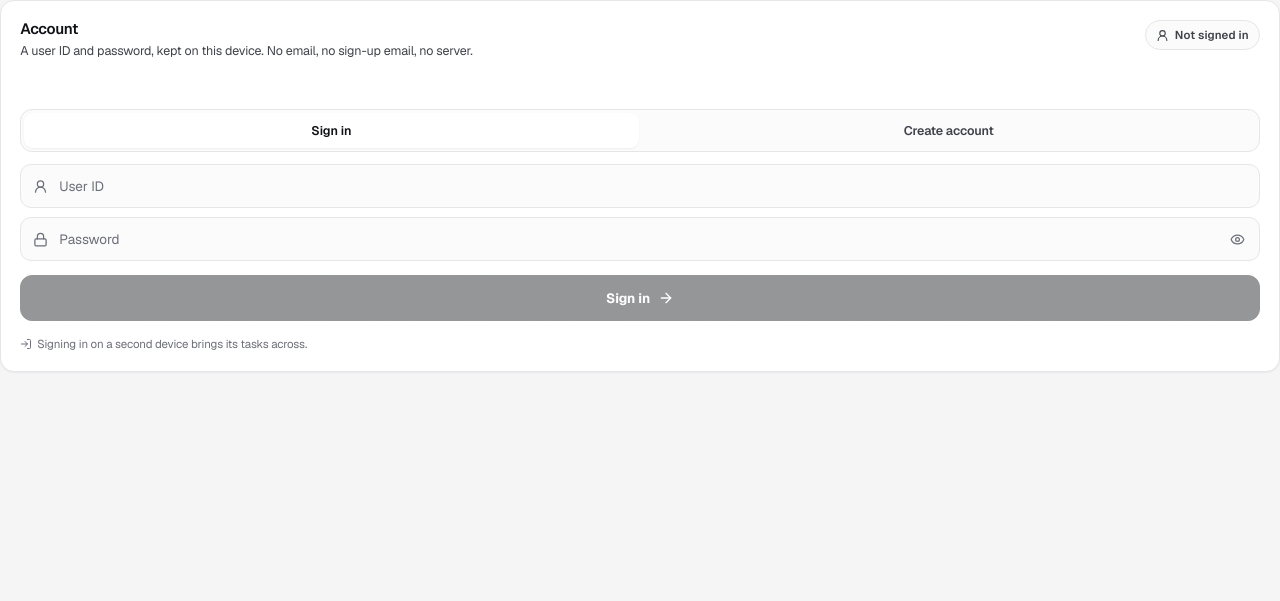
Test: AccountPanel › starts on sign in, and swaps to a create form with a confirm field
Expected: the field labelled "User ID" is shown, [20,164,1260,208]
Click the tab "Create account" at [949, 130], box [642,113,1256,148]
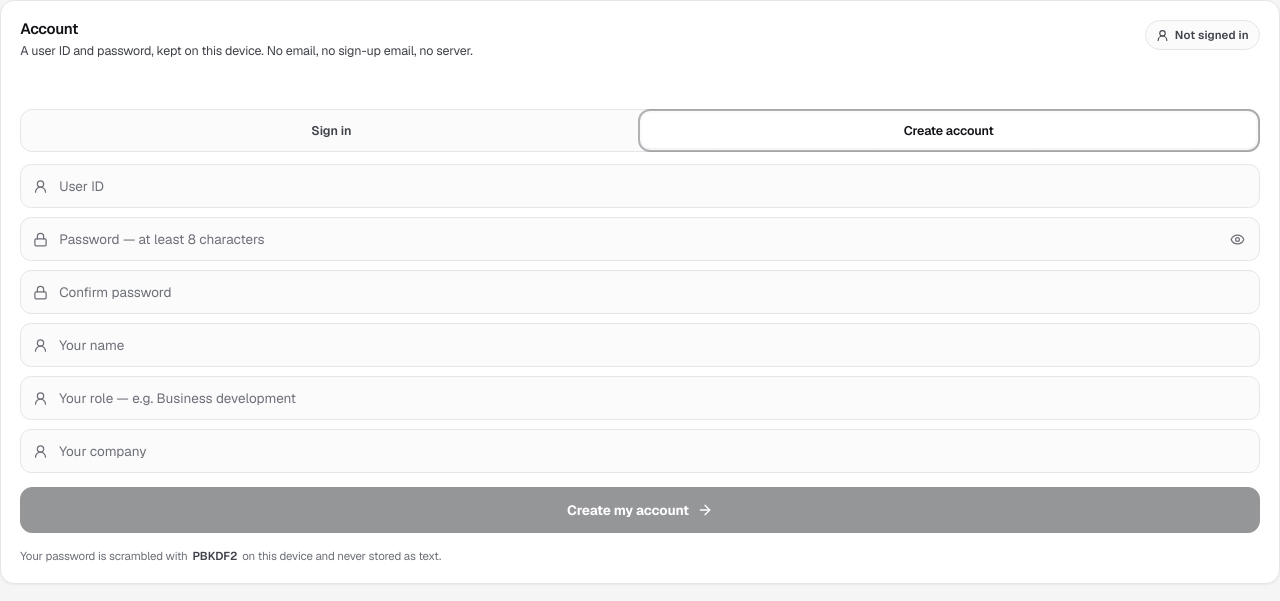
Expected: the password field labelled "Confirm password" is shown, [20,270,1260,314]
Expected: the field labelled "Your name" is shown, [20,323,1260,367]
